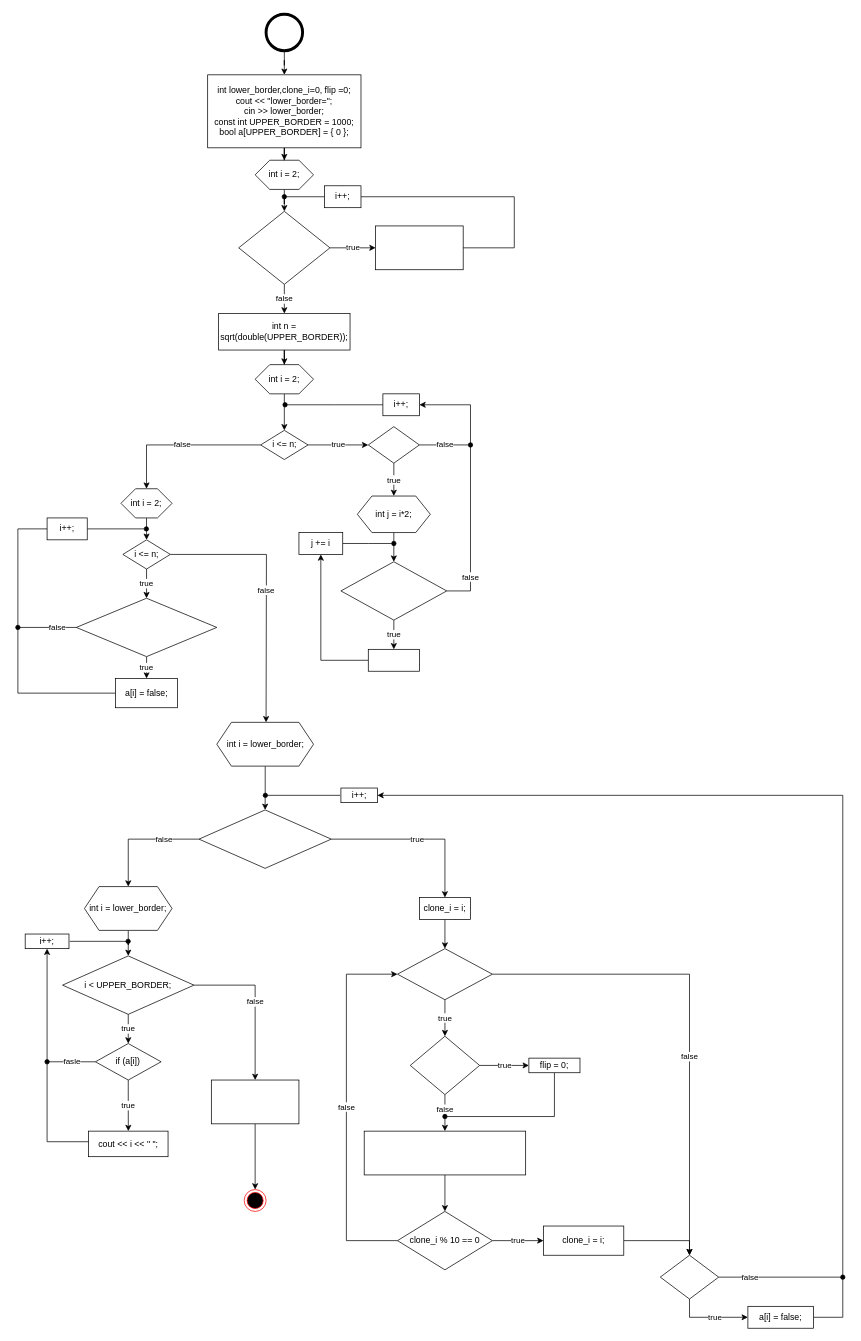
The diagram is 861 pixels wide and 1341 high, and some of its shapes have lost their labels. The centre of each missing label's shape, as x and y in pixels:
(a[i] and (i < lower_border)): the point at 146,627
a[i]: the point at 393,444
a[i] = true;: the point at 419,247
a[j] = false;: the point at 393,660
clone_i % 10 != 0: the point at 444,974
clone_i == i: the point at 445,1065
cout << endl;: the point at 255,1101
flip != i: the point at 689,1277
flip = (flip * 10 + (clone_i % 10)); clone_i = (clone_i - clone_i % 10) / 10;: the point at 444,1152
i < UPPER_BORDER -1;: the point at 264,838
i<UPPER_BORDER: the point at 284,247
j<UPPER_BORDER: the point at 393,590
